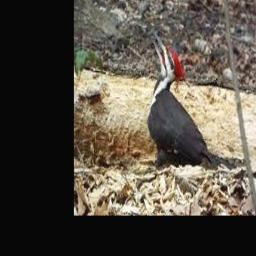Woodpecker: (147, 32, 236, 170)
